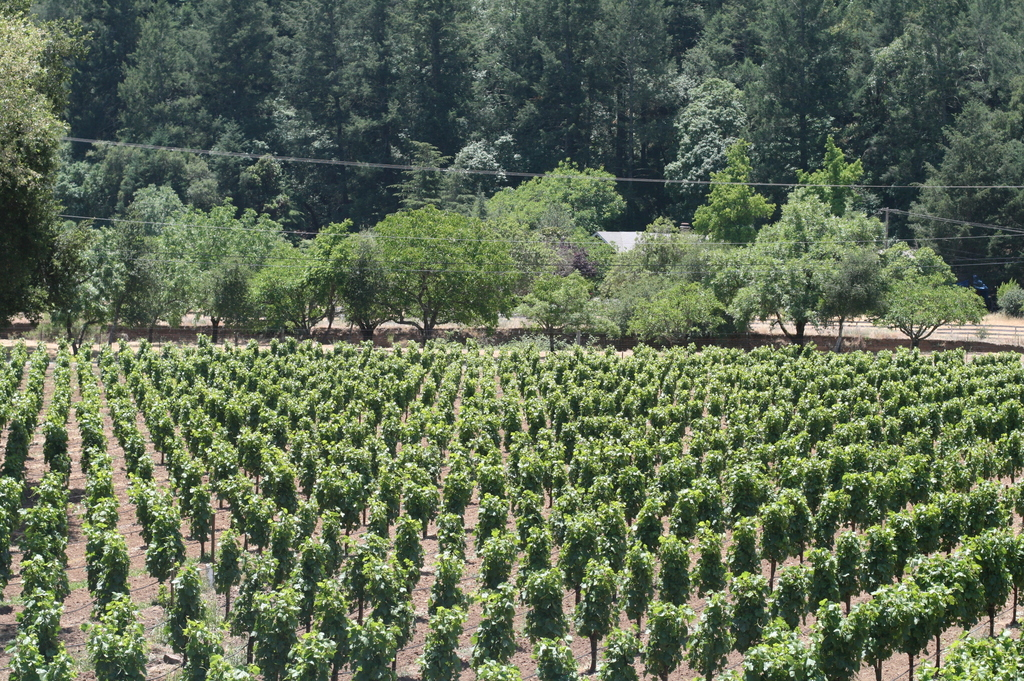Tree: (0, 0, 1023, 353), (0, 341, 1023, 680)
